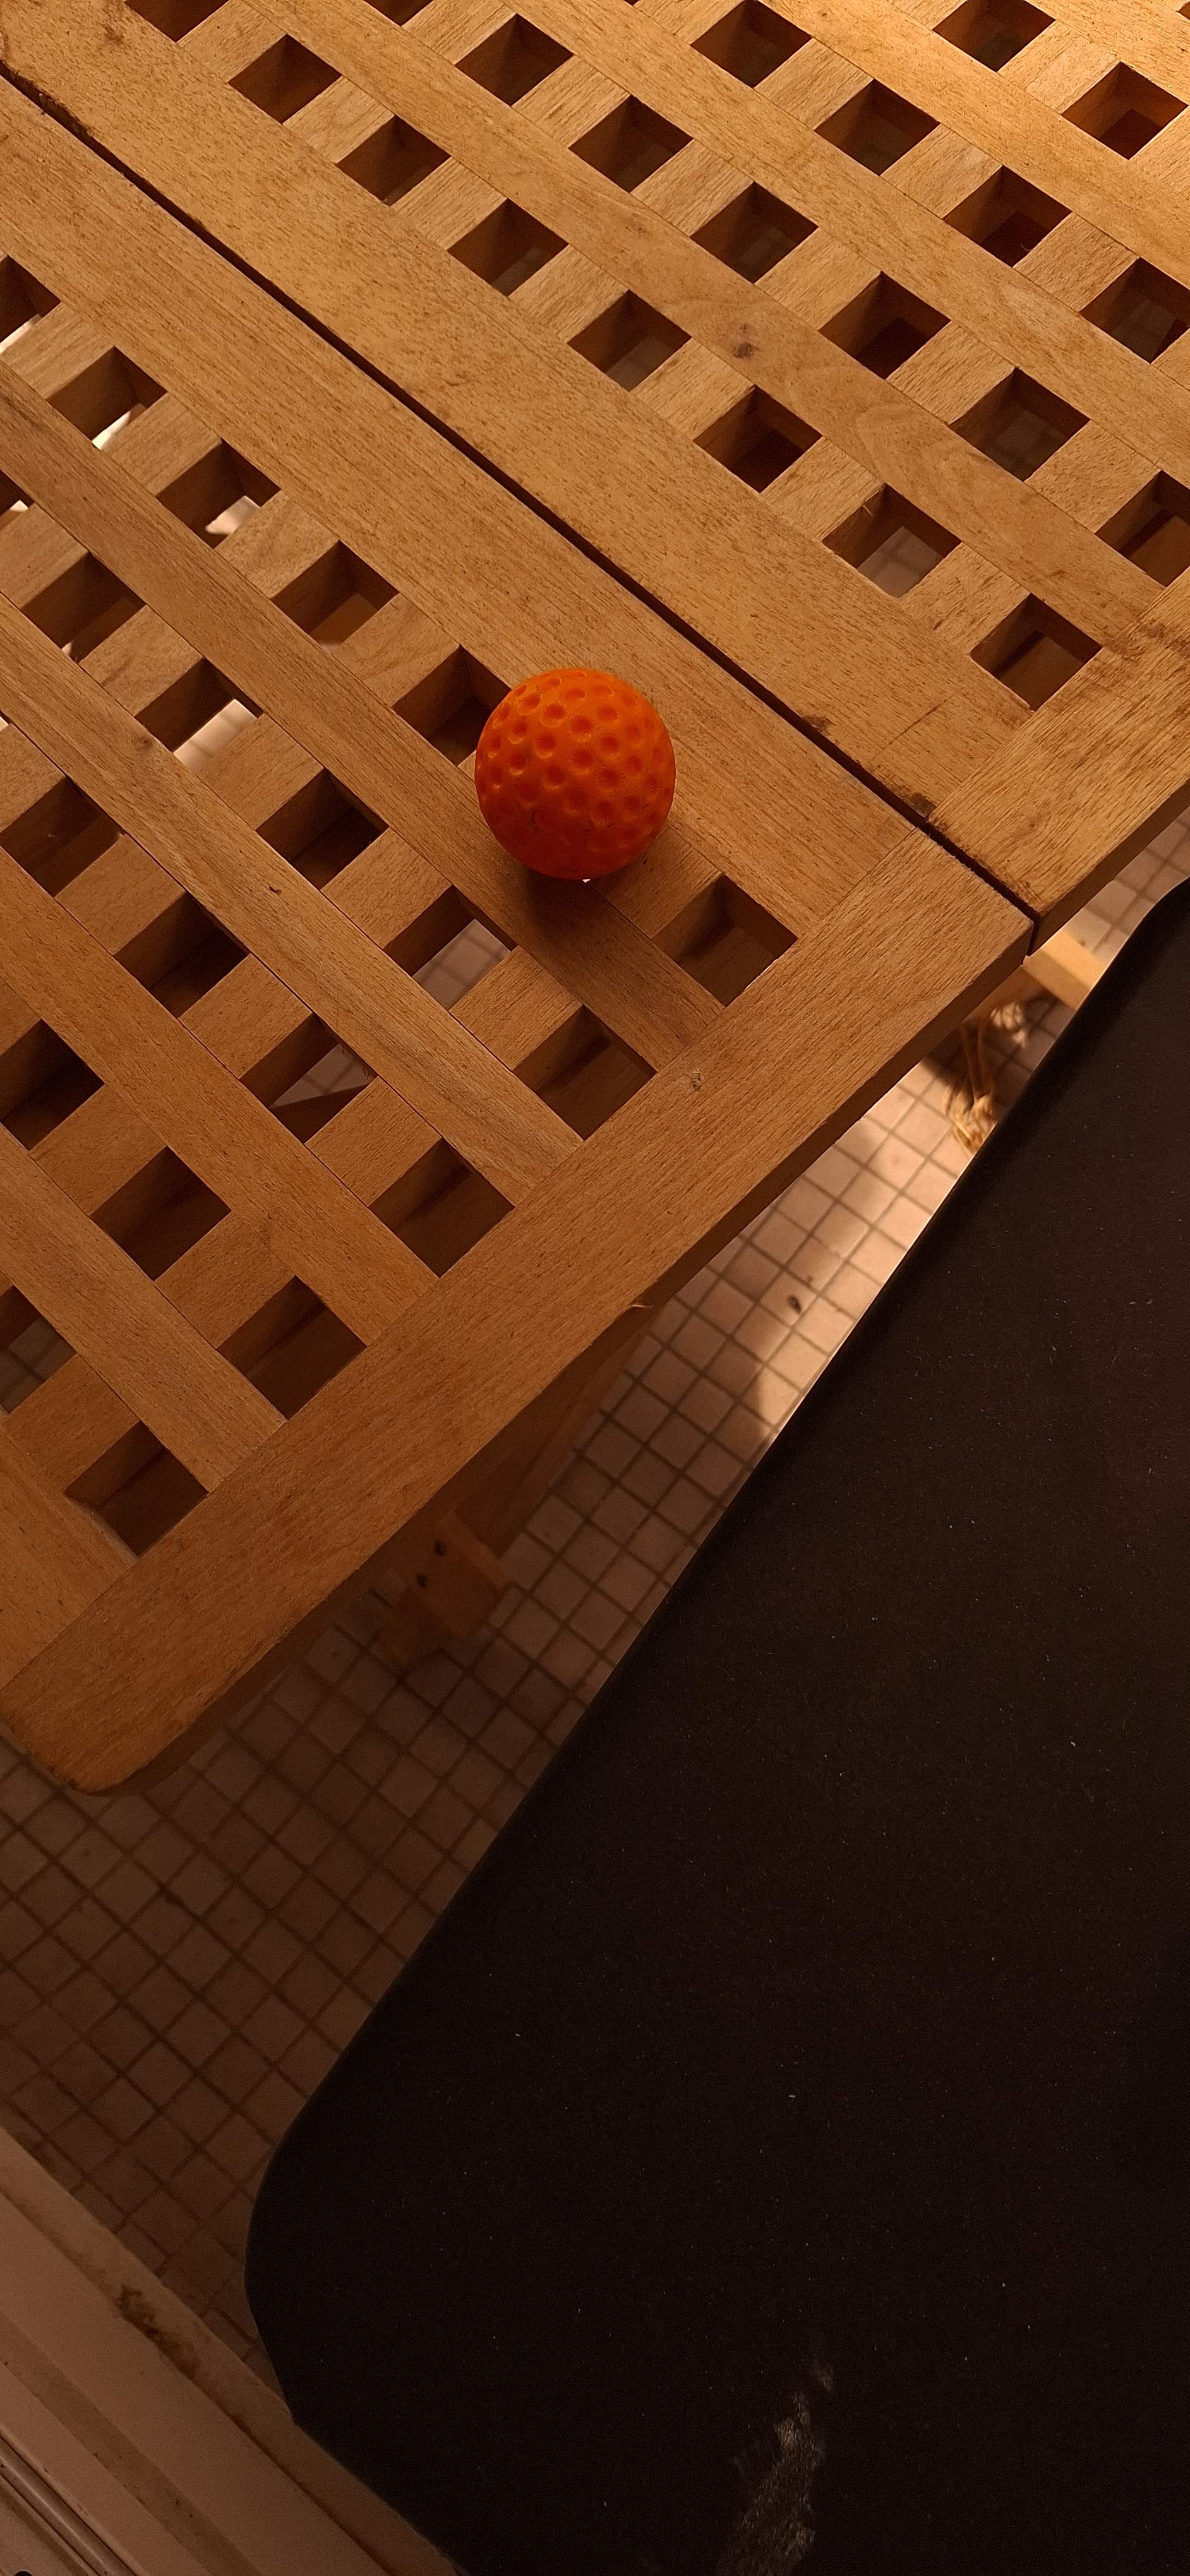ball: (309, 1109, 408, 1561)
